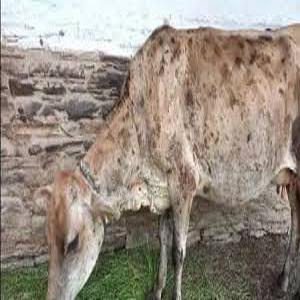lumpy skin diesease: (35, 20, 299, 299)
